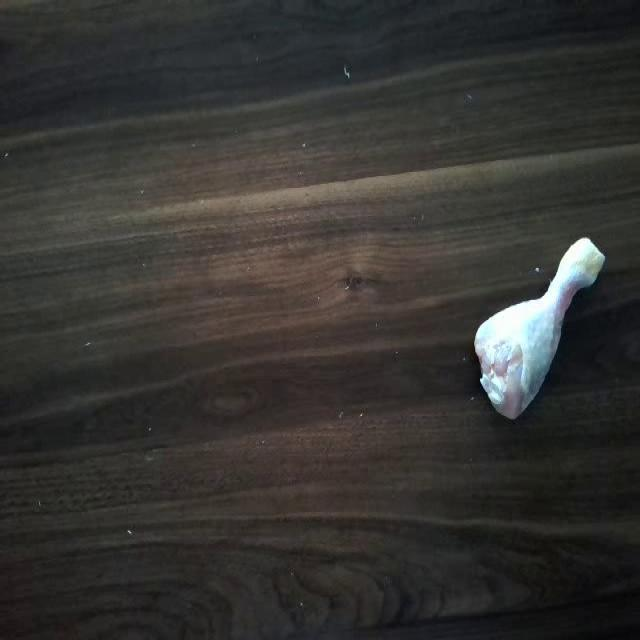leg: (459, 230, 609, 422)
